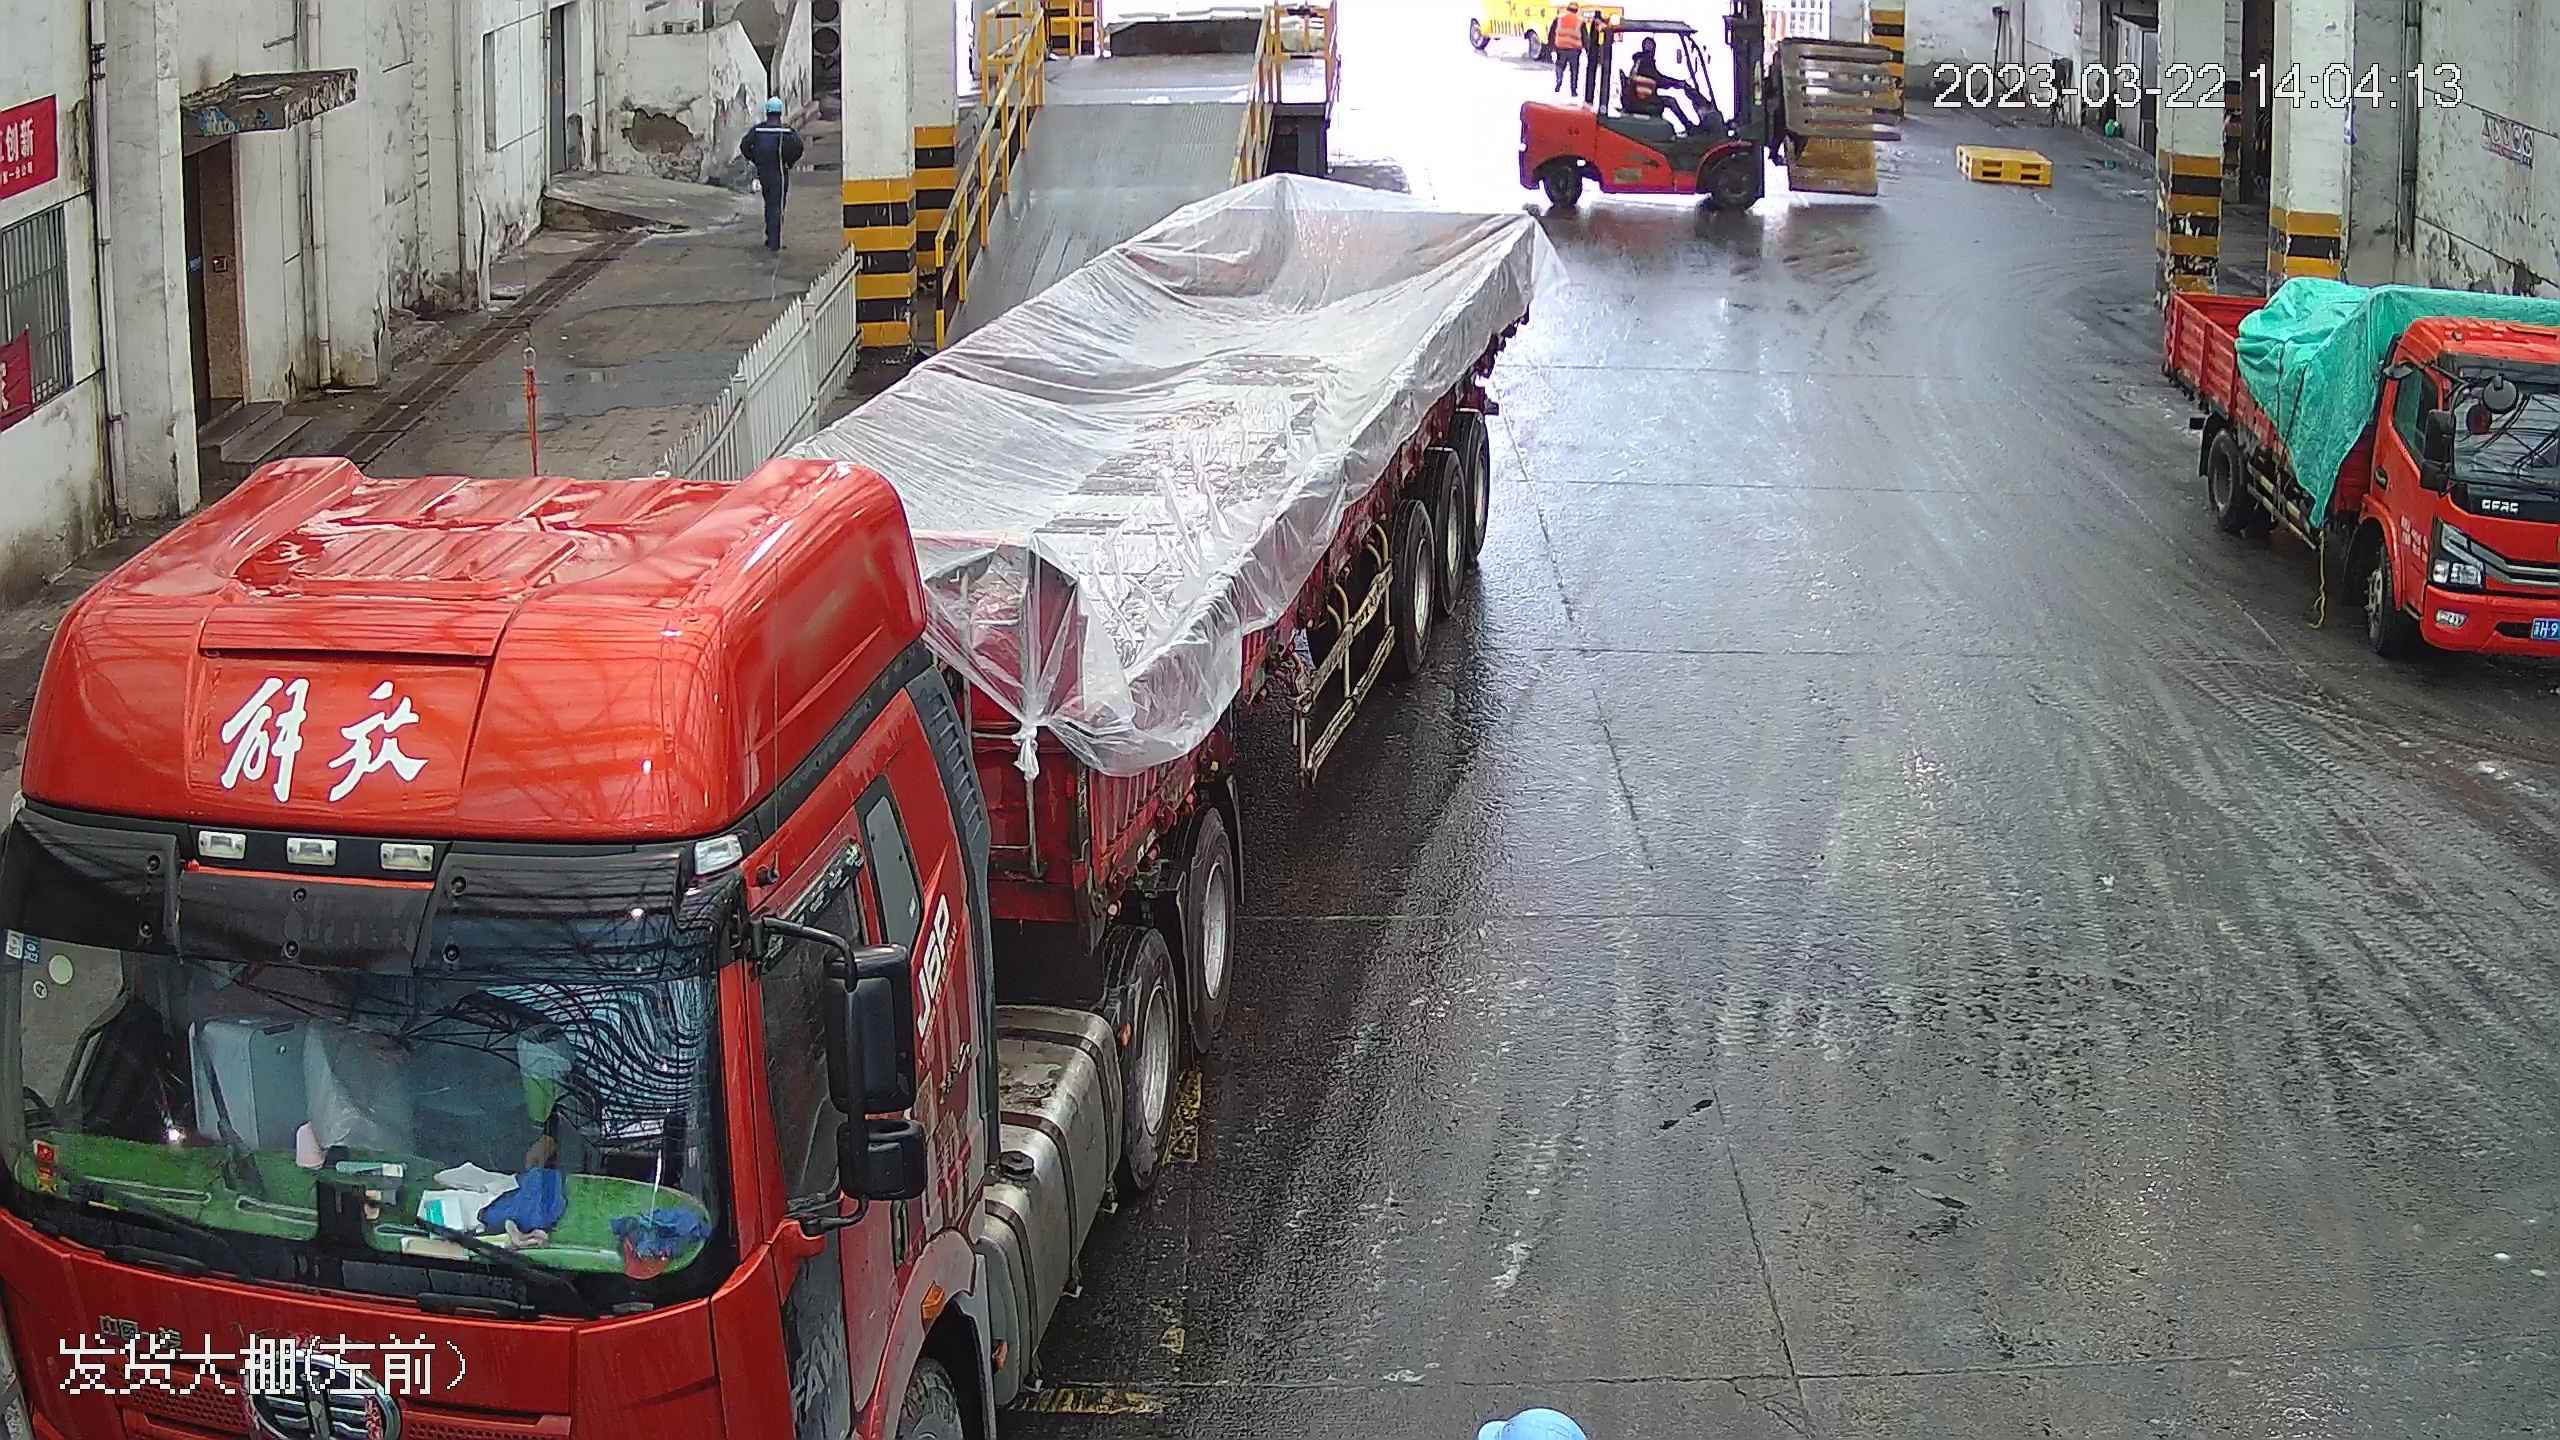head: (1550, 6, 1589, 95), (747, 101, 792, 149), (1631, 35, 1661, 79), (1556, 2, 1583, 30)
helmet: (764, 96, 783, 115), (1641, 35, 1657, 51), (1567, 1, 1580, 11)
people: (1623, 17, 1705, 134), (738, 94, 799, 251)
truck: (42, 10, 1483, 1440), (2158, 261, 2560, 688)
